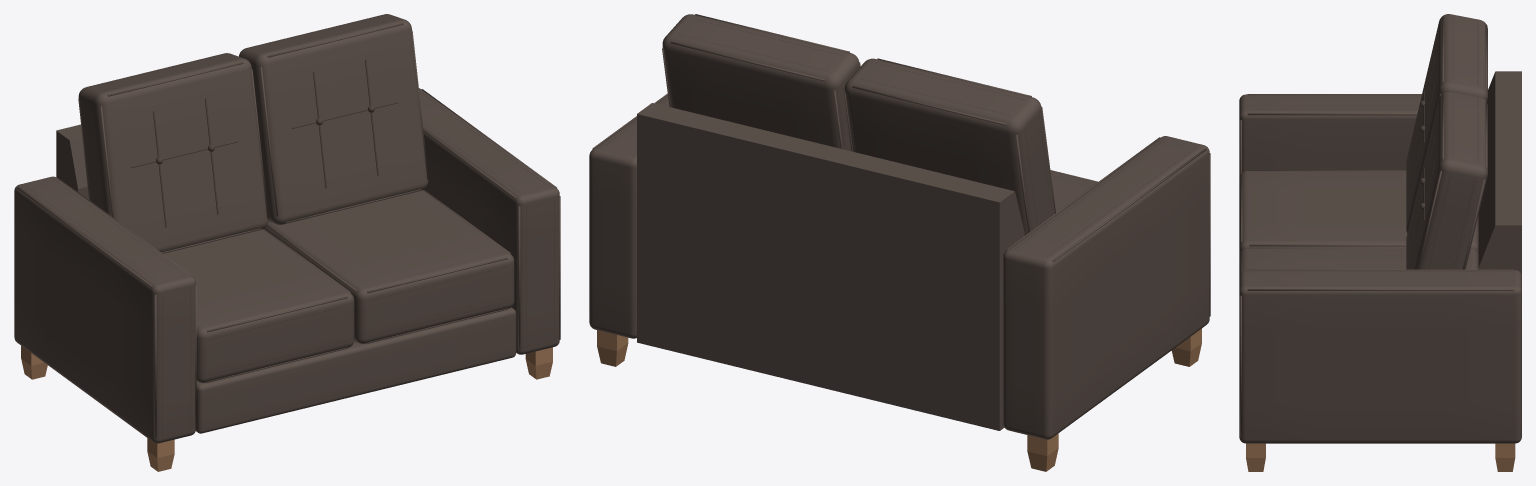
Rendered from benza_140x85.glb.
The picture shows the model from 3 angles, left to right: view 1: azimuth 30°, elevation 25°; view 2: azimuth 150°, elevation 25°; view 3: azimuth 270°, elevation 25°; orthographic projection. The views are drawn at different scales.
Visible parts, largest first — view 1: p1, p2, p0; view 2: p1, p0, p2; view 3: p1, p2, p0.
Boxes of the visible parts, left/top/right/bottom form: p1: left=14, top=14, right=560, bottom=443; p2: left=24, top=16, right=554, bottom=436; p0: left=21, top=346, right=552, bottom=471; p1: left=589, top=14, right=1210, bottom=439; p0: left=597, top=328, right=1201, bottom=471; p2: left=601, top=19, right=1196, bottom=256; p1: left=1239, top=14, right=1521, bottom=443; p2: left=1251, top=16, right=1512, bottom=285; p0: left=1246, top=443, right=1515, bottom=471.
Bounding box in the file's own units: 1.4 × 0.9642 × 0.8506.
3 materials, 2 textured.
